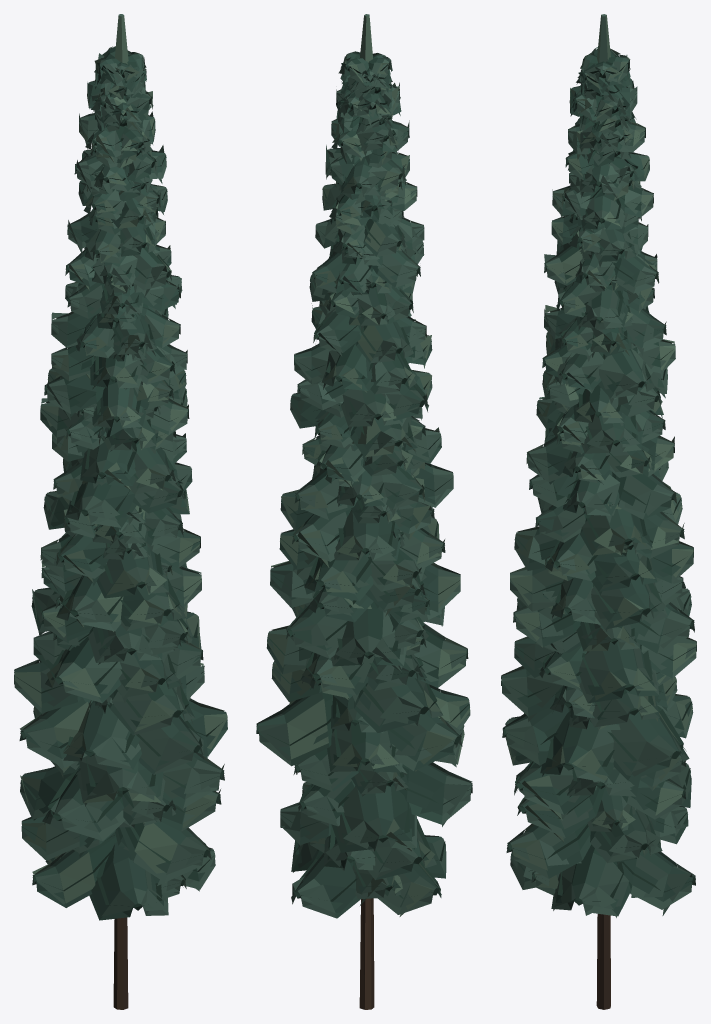
The model's file is pine-skinny.glb.
The picture shows the model from 3 angles, left to right: view 1: azimuth 30°, elevation 25°; view 2: azimuth 150°, elevation 25°; view 3: azimuth 270°, elevation 25°; orthographic projection.
Parts seen in each view (by area): view 1: pine-skinny-needles, pine-skinny; view 2: pine-skinny-needles, pine-skinny; view 3: pine-skinny-needles, pine-skinny.
Boxes of the visible parts, left/top/right/bottom form: pine-skinny-needles: left=14, top=46, right=227, bottom=920; pine-skinny: left=113, top=14, right=128, bottom=1009; pine-skinny-needles: left=256, top=51, right=472, bottom=918; pine-skinny: left=359, top=14, right=374, bottom=1009; pine-skinny-needles: left=501, top=47, right=696, bottom=917; pine-skinny: left=596, top=14, right=610, bottom=1009.
Size of the model in its own units: 2.04 by 10.5 by 1.88.
